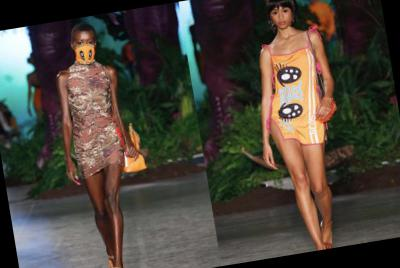with_mask: (72, 37, 99, 63)
without_mask: (270, 5, 295, 31)
